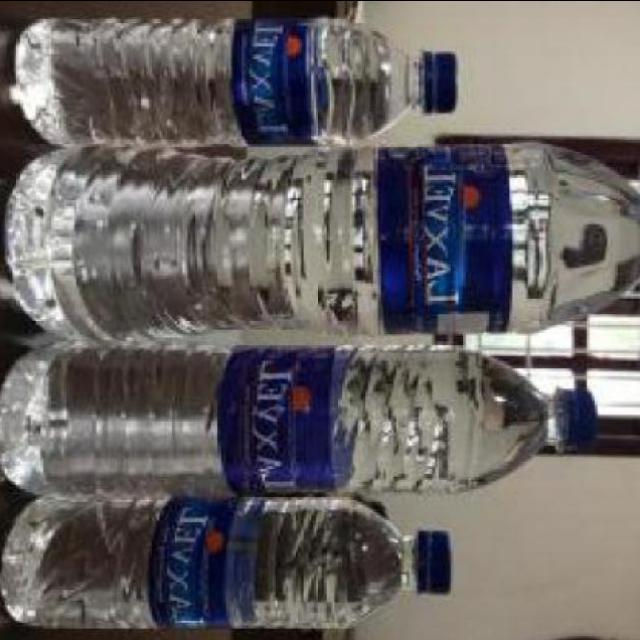plastik: (6, 142, 640, 340), (0, 340, 596, 497), (0, 496, 451, 627), (11, 18, 457, 144)
